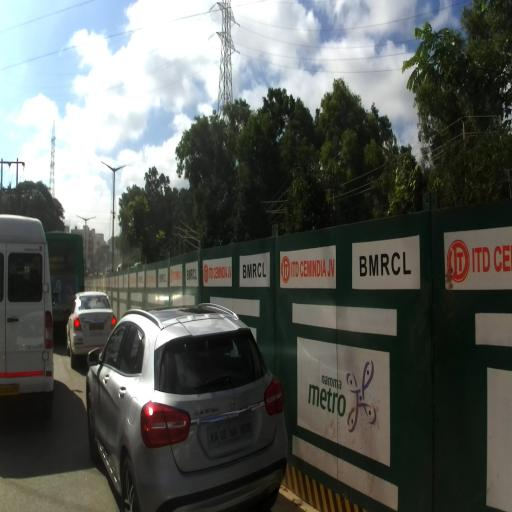street_light_0: (101, 161, 115, 174), (113, 164, 126, 174), (76, 215, 86, 222), (85, 217, 96, 222)
